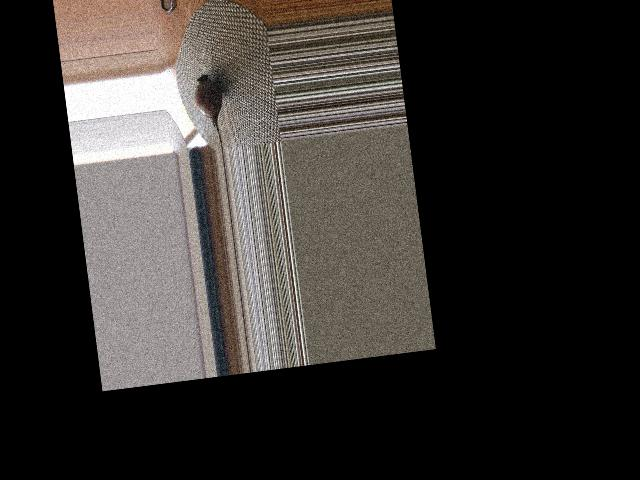beet: (191, 72, 228, 151)
